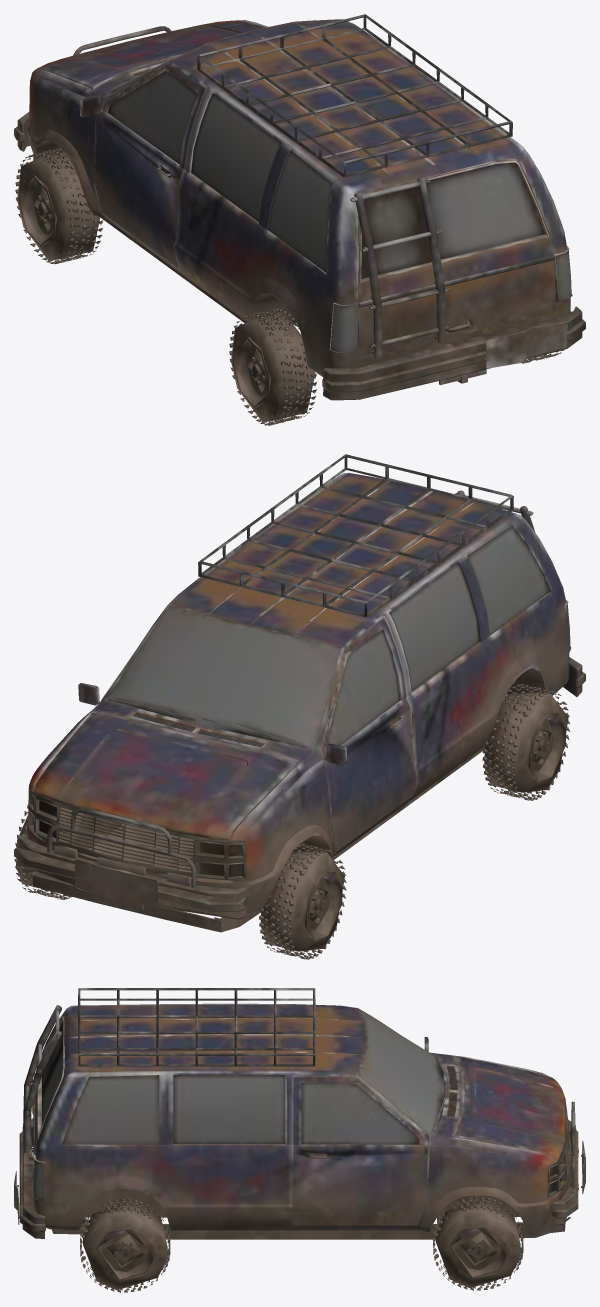
The model's file is car3_van_offroad.glb.
3 views of the same model, one above another, from view 1: azimuth 30°, elevation 25°; view 2: azimuth 150°, elevation 25°; view 3: azimuth 270°, elevation 25° (orthographic). The views are drawn at different scales.
Visible parts, largest first — view 1: Body, Trunk, Left_Door, Plane.001, BackLeftWheel, BackBumper, FrontLeftWheel, Window4, Hood, Window3, BackNumber, Frame (+1 smaller); view 2: Body, Windshield, Hood, Left_Door, Plane.001, BackLeftWheel, FrontLeftWheel, Grid, Window4, FrontBumper, Window3, Frame (+3 smaller); view 3: Body, RightDoor, Hood, Window2, FrontRightWheel, BackRightWheel, Plane.001, Window1, Windshield, Trunk, Frame, BackBumper (+2 smaller).
Part boxes in pixels (x1,y1,x2,y2): Body: (27, 19, 572, 376); Trunk: (350, 158, 555, 359); Left_Door: (79, 64, 207, 268); Plane.001: (197, 14, 512, 177); BackLeftWheel: (229, 308, 316, 425); BackBumper: (322, 306, 585, 400); FrontLeftWheel: (15, 148, 103, 264); Window4: (191, 93, 281, 221); Hood: (37, 20, 265, 89); Window3: (268, 150, 331, 272); BackNumber: (484, 323, 567, 368); Frame: (33, 156, 467, 383); Body: (26, 472, 571, 913); Windshield: (107, 606, 340, 748); Hood: (33, 713, 297, 839); Left_Door: (321, 616, 417, 851); Plane.001: (198, 454, 513, 617); BackLeftWheel: (482, 683, 569, 800); FrontLeftWheel: (259, 843, 346, 959); Grid: (28, 788, 246, 881); Window4: (389, 562, 479, 691); FrontBumper: (14, 834, 246, 919); Window3: (467, 526, 549, 635); Frame: (30, 745, 484, 932); Body: (32, 1003, 571, 1232); RightDoor: (292, 1075, 429, 1225); Hood: (455, 1056, 566, 1160); Window2: (173, 1074, 285, 1143); FrontRightWheel: (433, 1196, 523, 1290); BackRightWheel: (80, 1198, 170, 1292); Plane.001: (78, 988, 315, 1066); Window1: (62, 1075, 159, 1144); Windshield: (358, 1009, 444, 1133); Trunk: (23, 1005, 64, 1160); Frame: (51, 1217, 570, 1239); BackBumper: (19, 1118, 45, 1238).
Size of the model in its own units: 2.43 by 2.08 by 5.
Materials: 1 (1 with a texture image).
